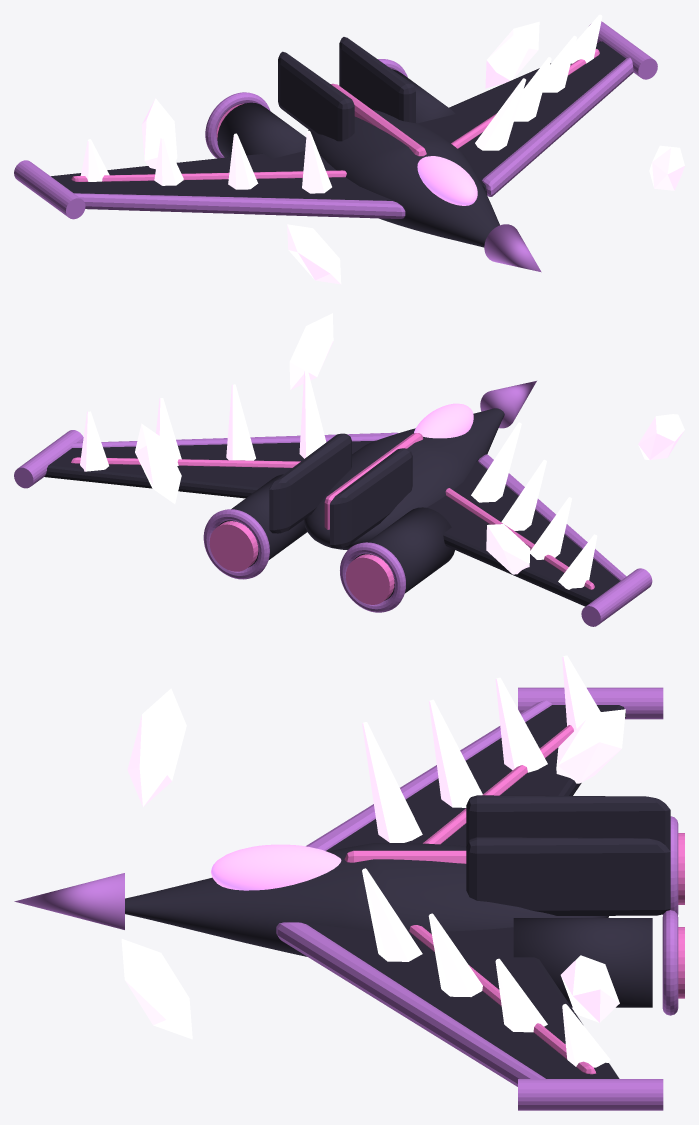
The model's file is SM_Keeper_Umbra.fbx.
3 views of the same model, one above another, from view 1: azimuth 30°, elevation 25°; view 2: azimuth 150°, elevation 25°; view 3: azimuth 270°, elevation 25° (orthographic). The views are drawn at different scales.
Parts seen in each view (by area): view 1: SM_Keeper_Umbra; view 2: SM_Keeper_Umbra; view 3: SM_Keeper_Umbra.
Part boxes in pixels (x1,y1,x2,y2): SM_Keeper_Umbra: [14, 14, 684, 284]; SM_Keeper_Umbra: [14, 313, 684, 626]; SM_Keeper_Umbra: [14, 655, 684, 1110].
Bounding box in the file's own units: 6.88 × 1.34 × 4.82.
